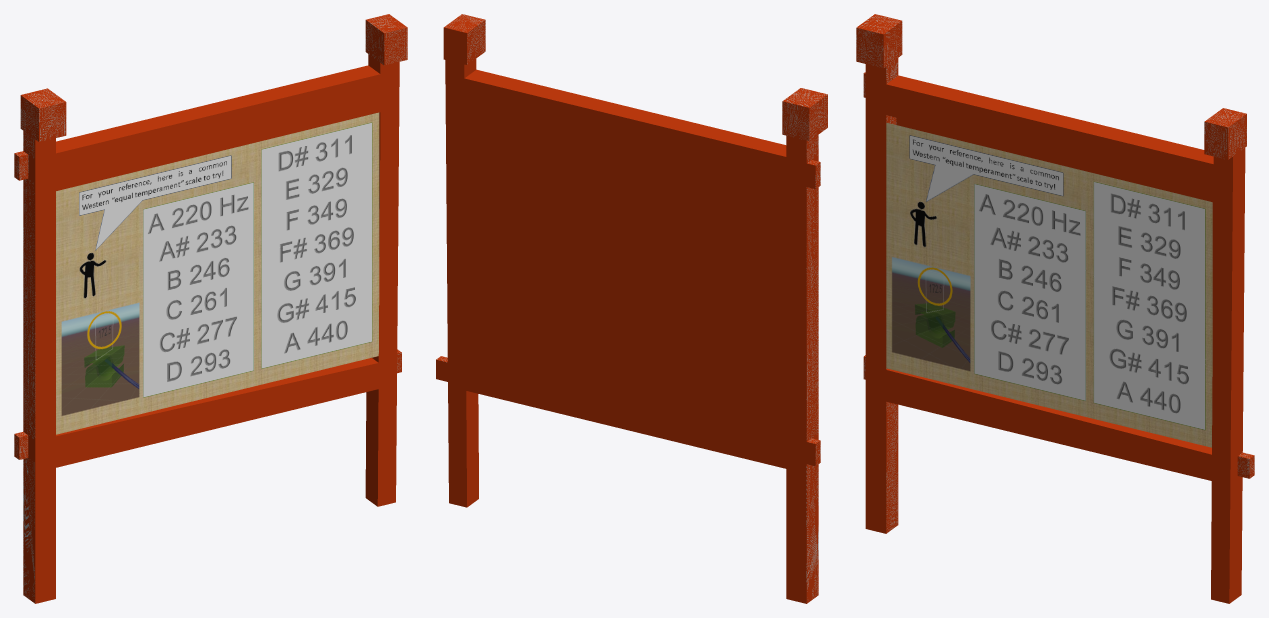
The model's file is sign4.dae.
3 views of the same model, side by side, from view 1: azimuth 30°, elevation 25°; view 2: azimuth 150°, elevation 25°; view 3: azimuth 330°, elevation 25° (orthographic).
Parts seen in each view (by area): view 1: Camp_Milton_Sign (×5); view 2: Camp_Milton_Sign (×3); view 3: Camp_Milton_Sign (×5).
Boxes of the visible parts, x1,y1,x2,y2 form: Camp_Milton_Sign (×5): (14, 14, 407, 603); Camp_Milton_Sign (×3): (436, 14, 827, 603); Camp_Milton_Sign (×5): (856, 14, 1246, 603).
Size of the model in its own units: 1.3 by 0.1092 by 1.62.
